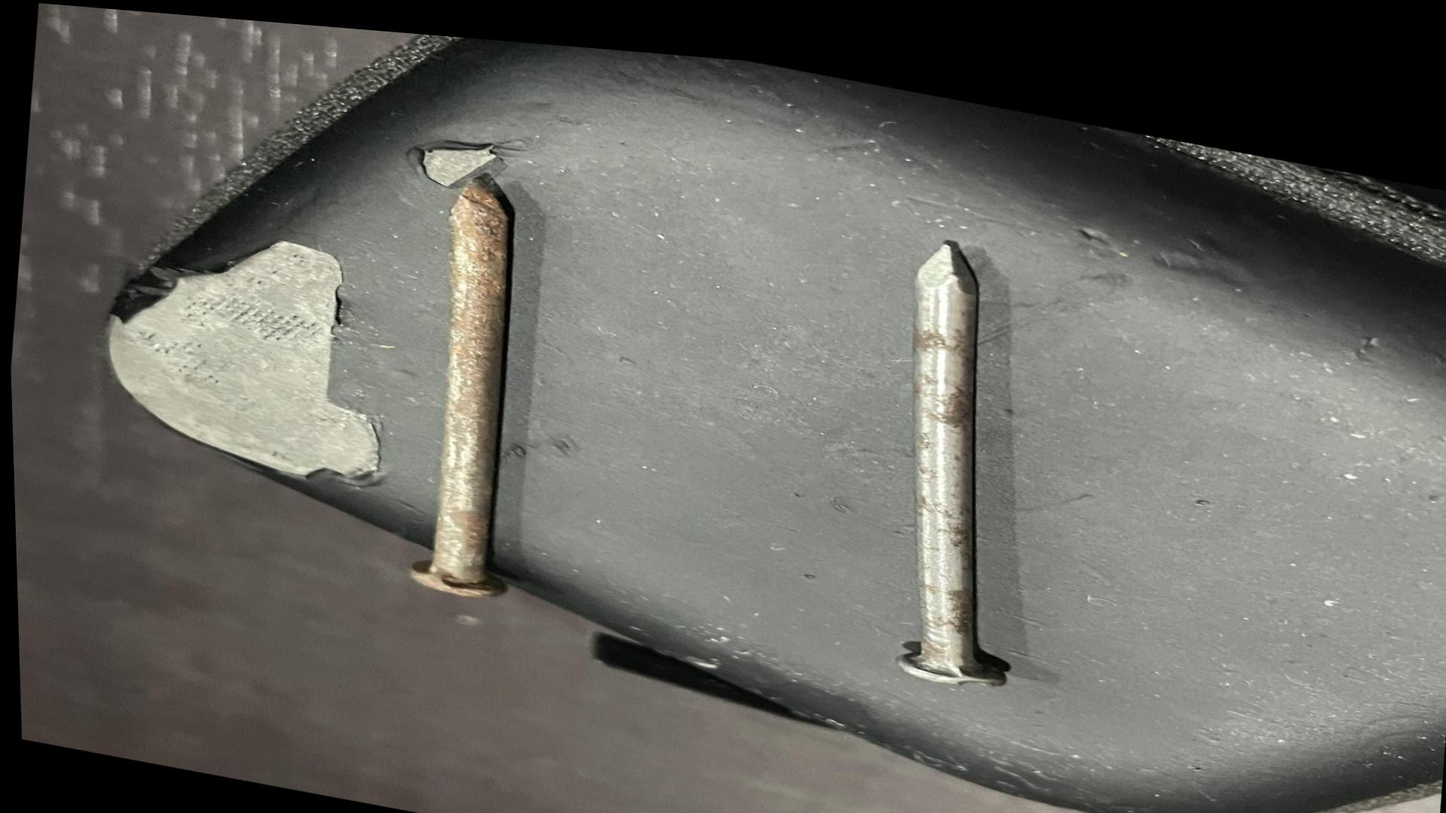nail: (775, 174, 1094, 703), (353, 98, 610, 623)
